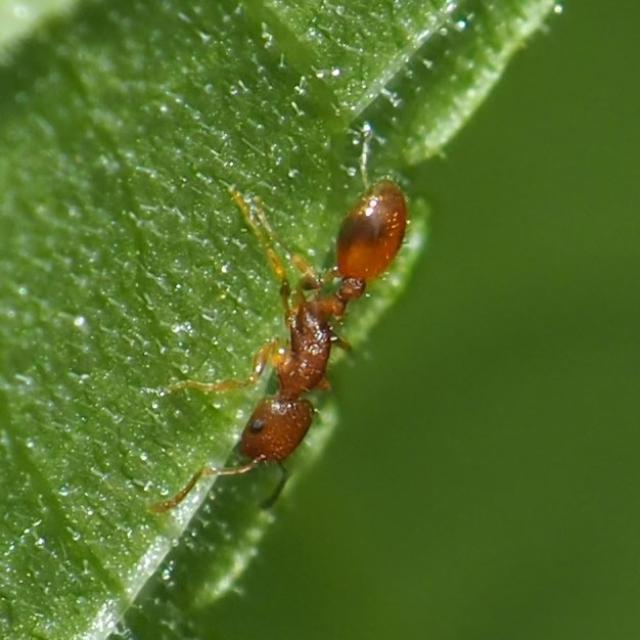Temnothorax: (181, 132, 423, 514)
